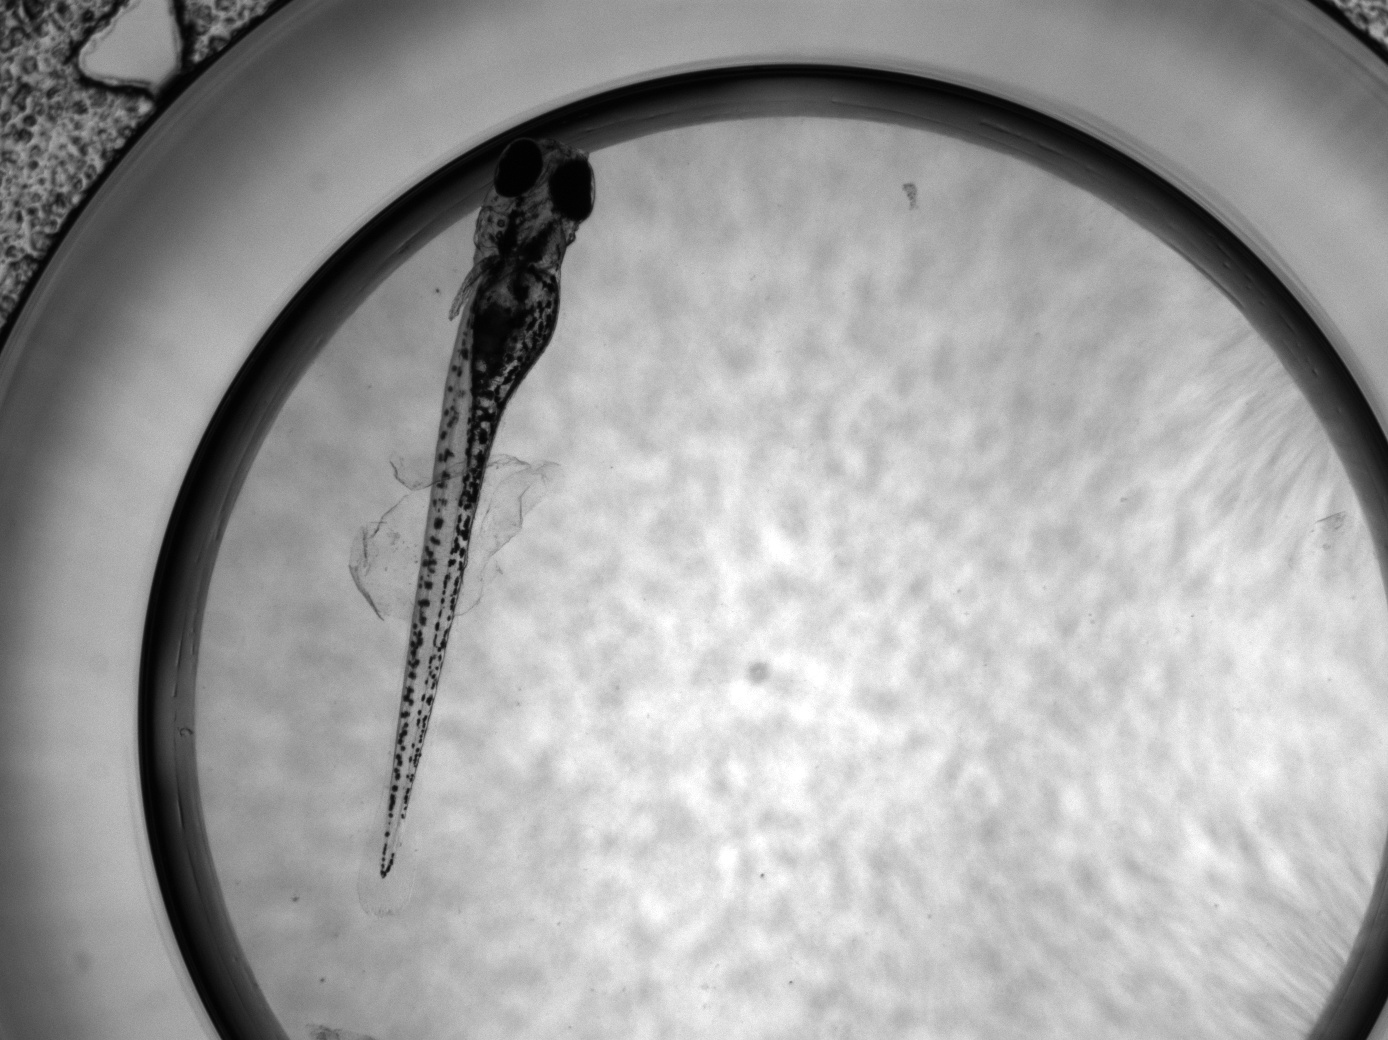embryo: (380, 137, 594, 881)
eye: (547, 159, 595, 221), (493, 139, 543, 197)
yolksac: (467, 264, 560, 373)
